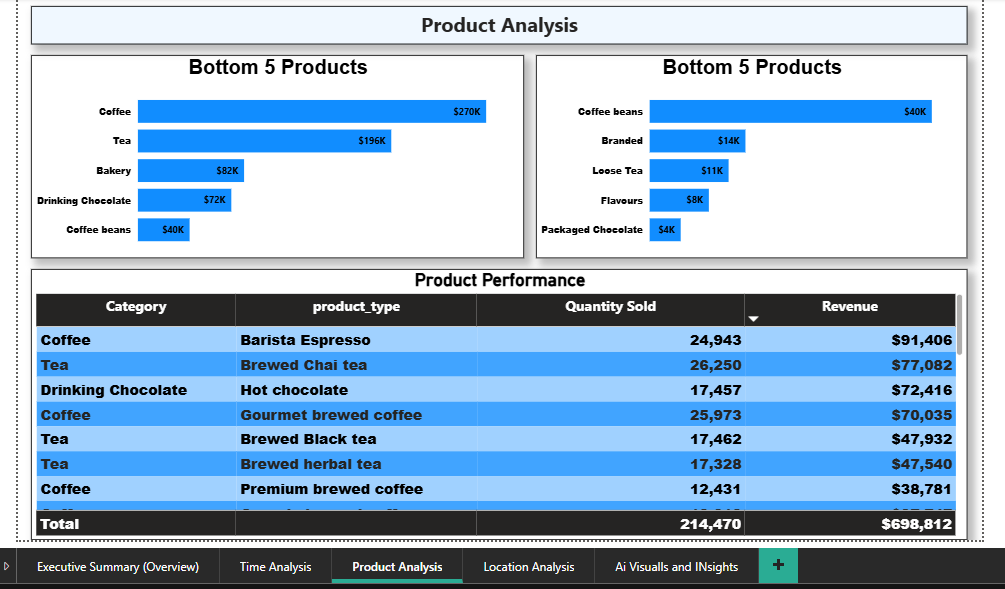

Layout of this report page (visuals, bound fields, positions):
{"tool":"powerbi","page":{"name":"Product Analysis","canvas":[1280,720],"ordinal":2},"visuals":[{"type":"clusteredBarChart","title":"Bottom 5 Products","fields":{"Category":["Dim_Products.product_category"],"Y":["Sum(Fact_Sales.Revenue)"]},"box":[17,75.7,654.7,270.2],"z":0},{"type":"clusteredBarChart","title":"Bottom 5 Products","fields":{"Category":["Dim_Products.product_category"],"Y":["Sum(Fact_Sales.Revenue)"]},"box":[688.6,75.7,572.8,270.2],"z":1000},{"type":"tableEx","title":"Product Performance","fields":{"Values":["Dim_Products.product_category","Dim_Products.product_type","Sum(Fact_Sales.transaction_qty)","Sum(Fact_Sales.Revenue)"]},"box":[17,359.8,1244.5,359.8],"z":2000},{"type":"textbox","box":[17,10.8,1244.5,51],"z":3000}]}

Visuals, with their boxes on the page's 1280x720 design canvas (x1, y1, x2, y2). These are canvas units, not pixel positions in the 1005x589 screenshot, which may show the page scaled, cropped or inside an application window:
"Bottom 5 Products" clusteredBarChart: crop(17, 76, 672, 346)
"Bottom 5 Products" clusteredBarChart: crop(689, 76, 1261, 346)
"Product Performance" tableEx: crop(17, 360, 1262, 720)
textbox: crop(17, 11, 1262, 62)
